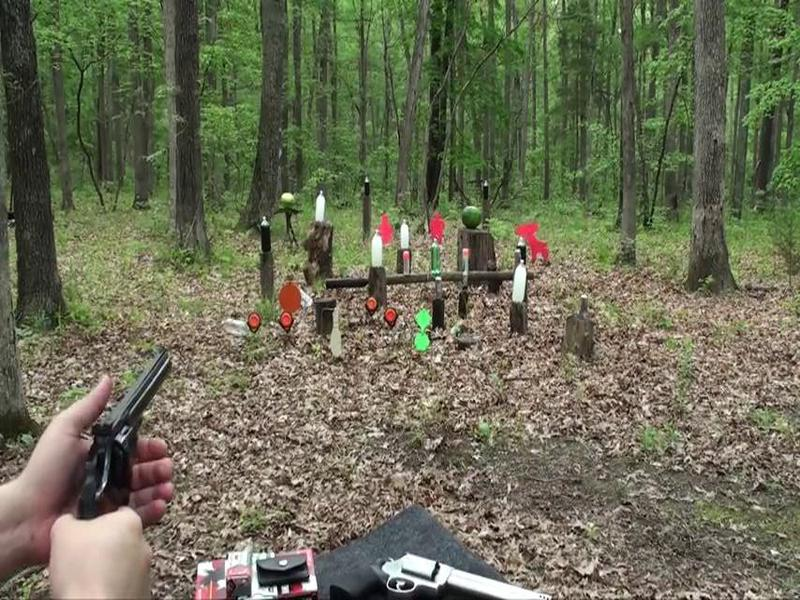Revolver: (39, 332, 183, 580)
